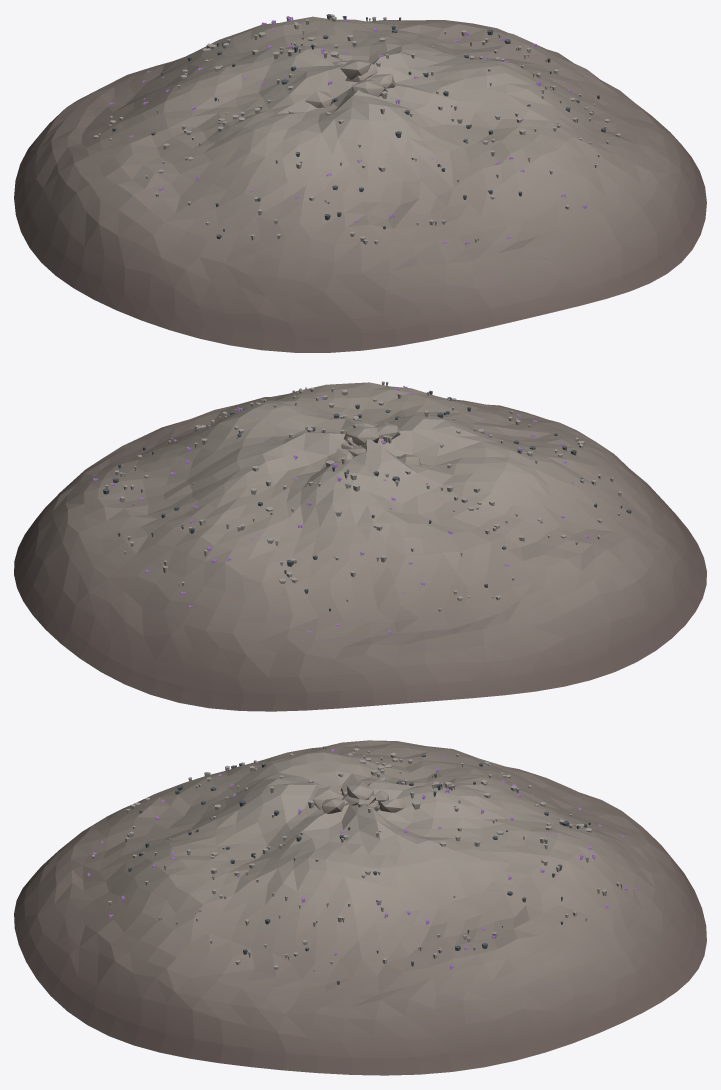
Rendered from cavern_dome.glb.
3 renders of one model, top to bottom at view 1: azimuth 30°, elevation 25°; view 2: azimuth 150°, elevation 25°; view 3: azimuth 270°, elevation 25°, orthographic.
Parts seen in each view (by area): view 1: cavern_dome; view 2: cavern_dome; view 3: cavern_dome.
Part boxes in pixels (x1,y1,x2,y2): cavern_dome: [14, 14, 706, 352]; cavern_dome: [14, 381, 706, 711]; cavern_dome: [14, 740, 706, 1075].
Bounding box in the file's own units: 268 × 63.98 × 268.
2 materials, 2 textured.
